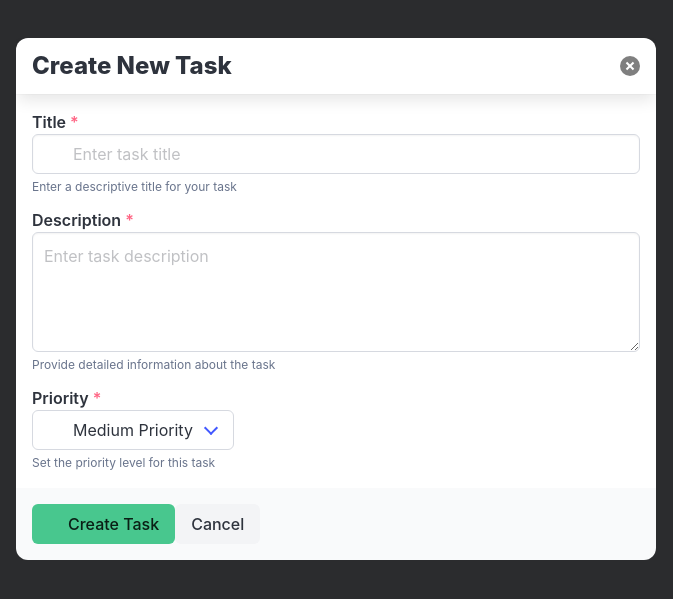
Test case: TaskForm Component › Form Validation › shows validation error for empty title
Try to submit with empty title
Click the button "Create Task". click: (104, 524)
box: [32,504,175,544]
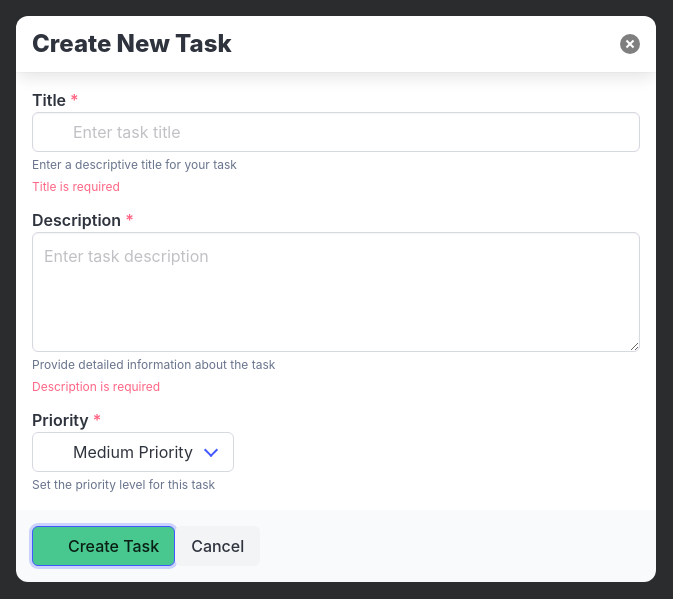
Result: the text "Title is required" is shown at [32,179,120,194]
